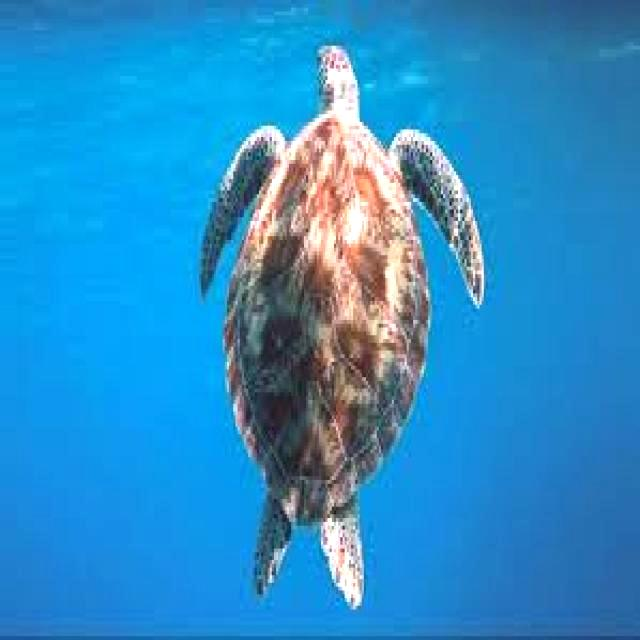Sea turtle: (200, 37, 491, 614)
